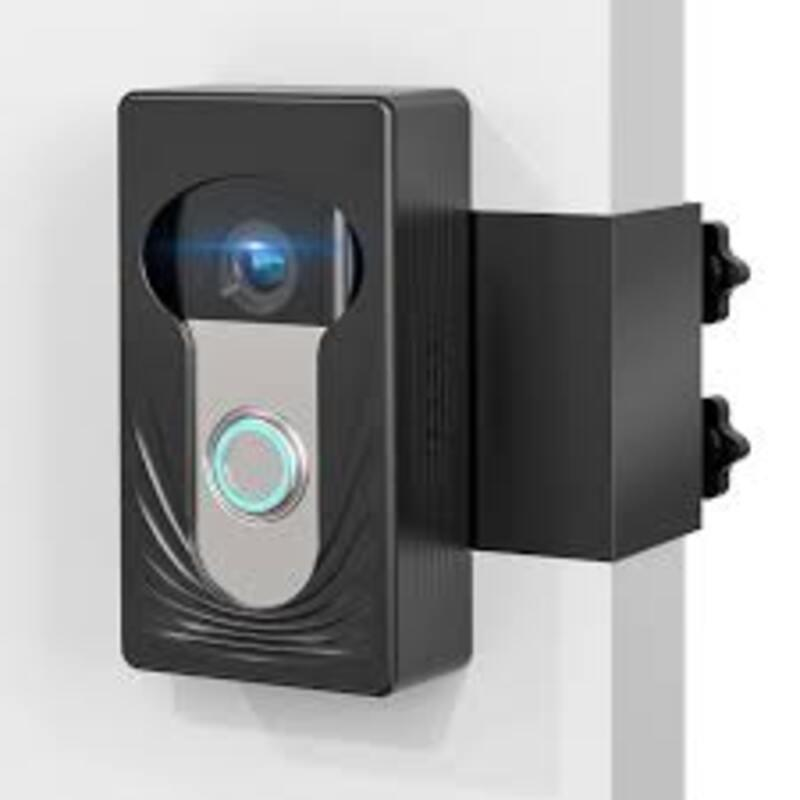doorbell: (124, 95, 442, 653)
